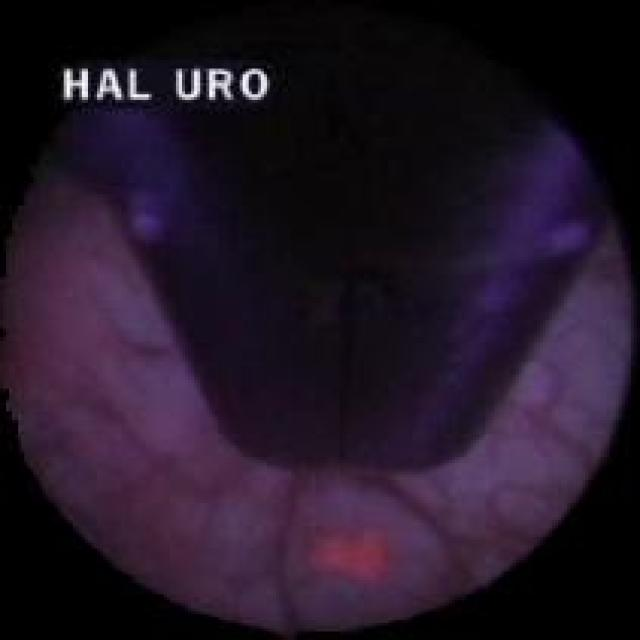color misalignment: (50, 54, 297, 114)
instrument: (64, 38, 588, 471)
